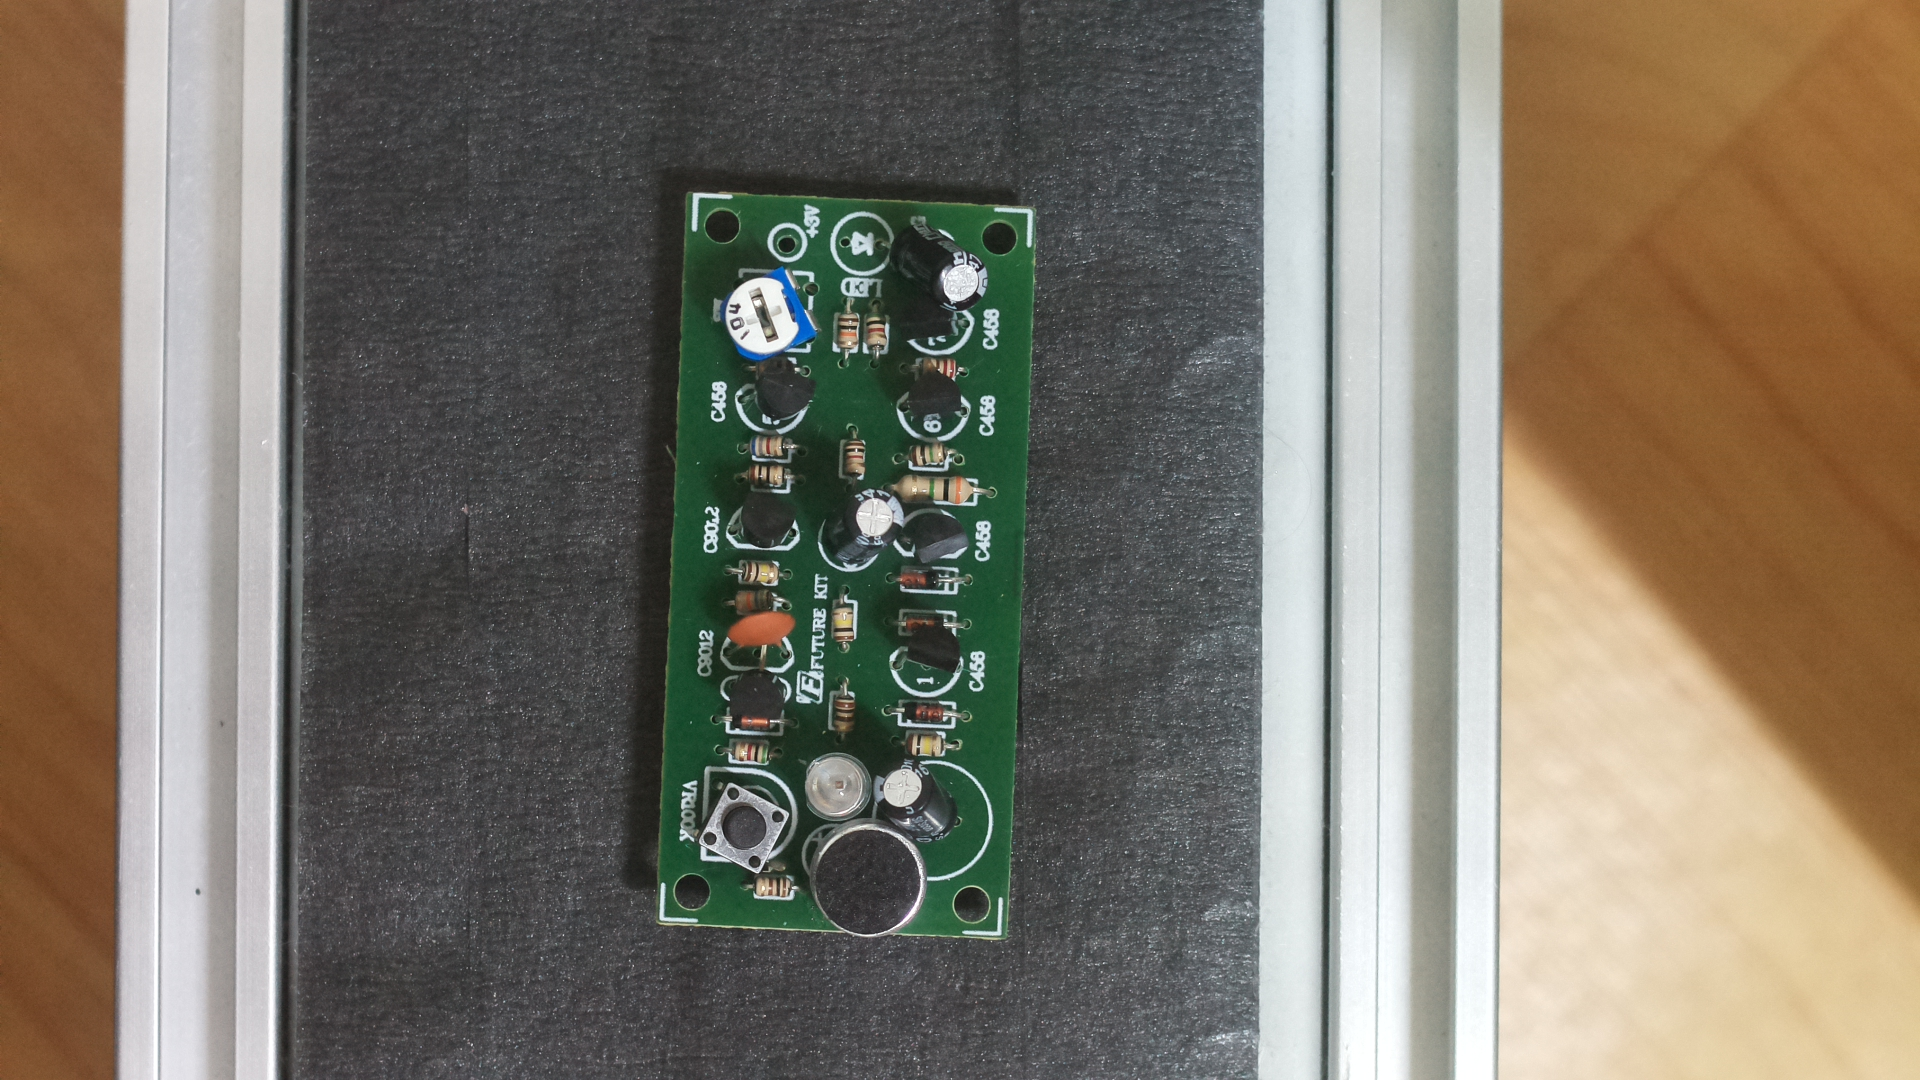A_Misordered: (653, 167, 1035, 969)
